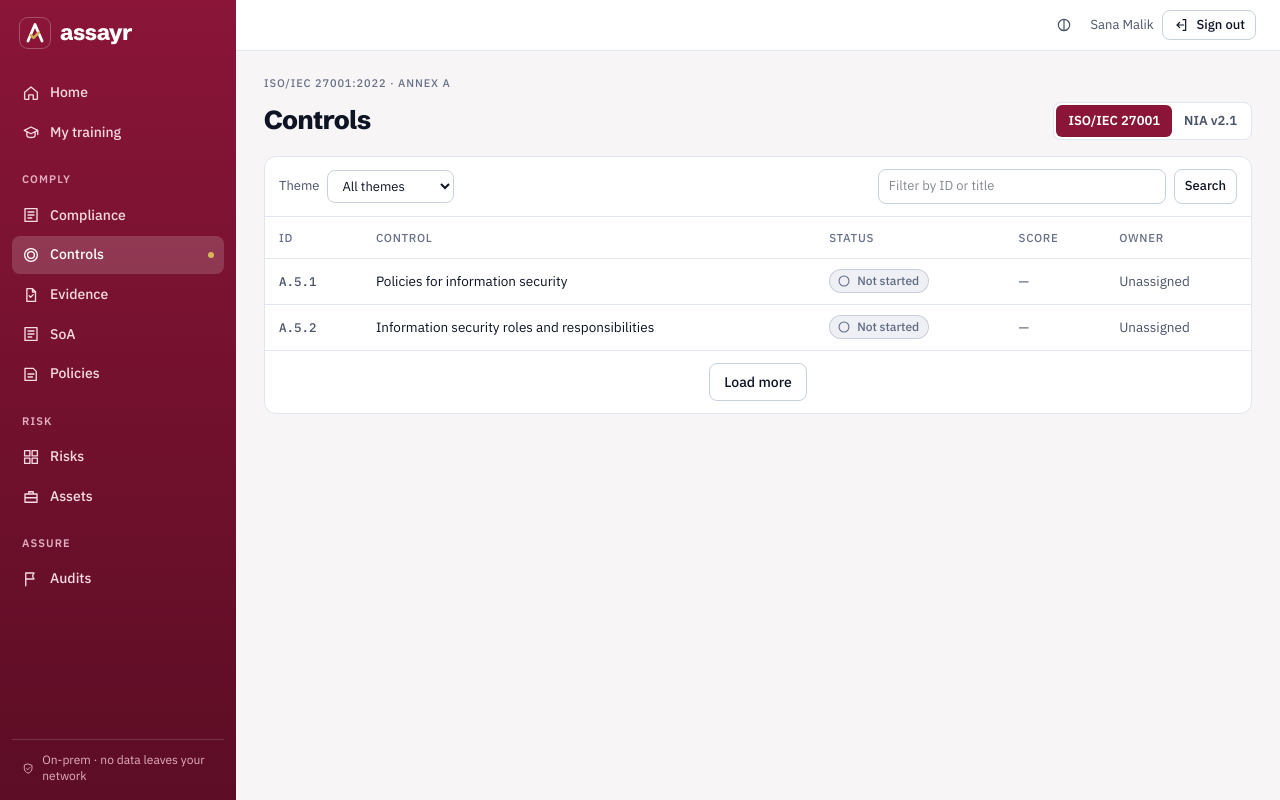
Scenario: lists controls, loads more and filters by theme through the URL
Click the button "Load more" at [758, 382], box [709,363,807,401]
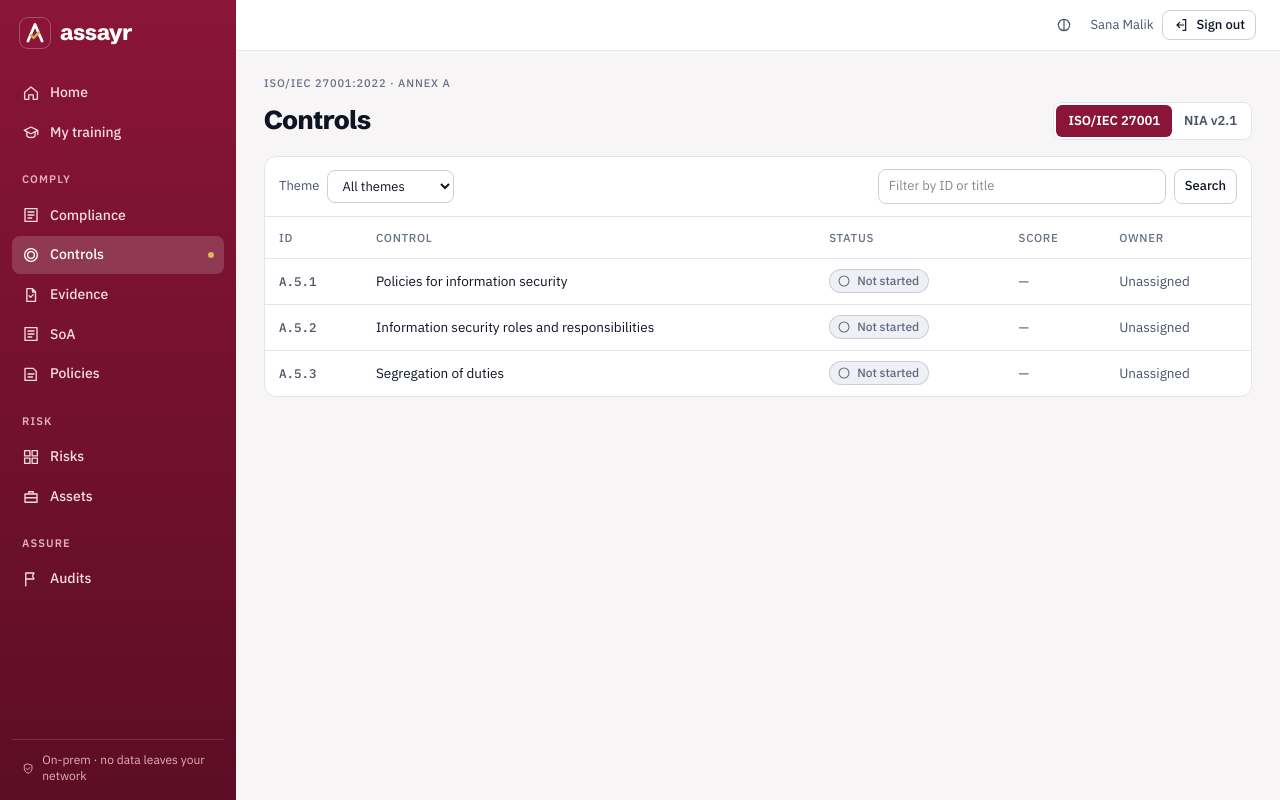
Result: the link "Segregation of duties" is shown at [376,364,504,382]
Select "People" in the dropdown labelled "Theme" at [391, 186], box [328,170,454,203]
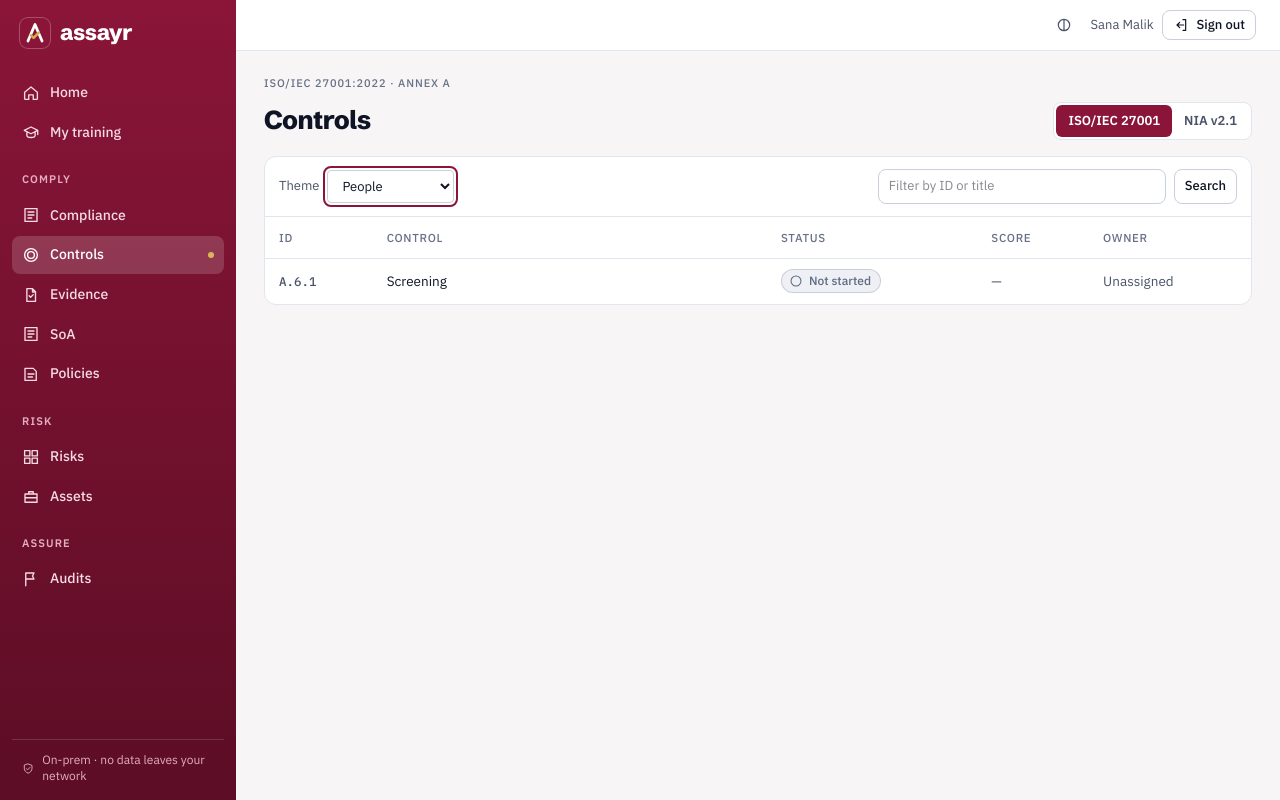
Result: the link "Screening" is shown at [387,272,447,290]
